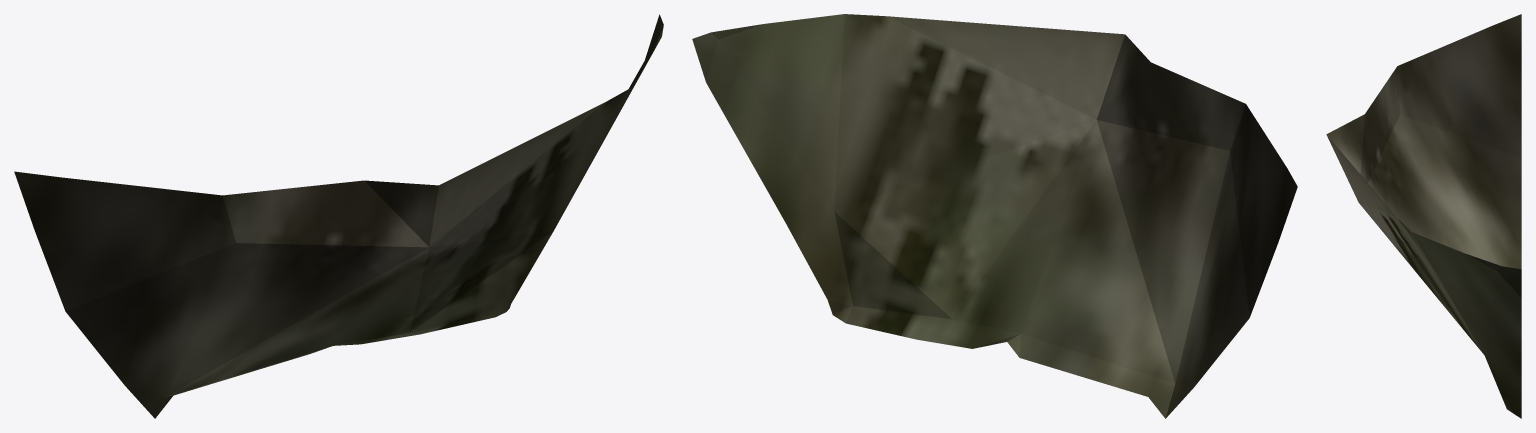
The picture shows the model from 3 angles, left to right: view 1: azimuth 30°, elevation 25°; view 2: azimuth 150°, elevation 25°; view 3: azimuth 270°, elevation 25°; orthographic projection. The views are drawn at different scales.
Size of the model in its own units: 0.8222 by 0.3431 by 0.2658.
1 material, 1 textured.
